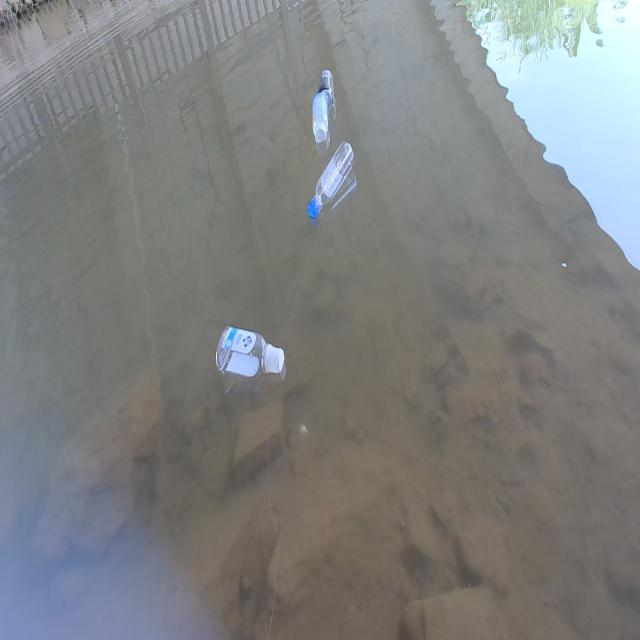garbage: (215, 324, 287, 384), (307, 140, 355, 219), (311, 68, 335, 154)
